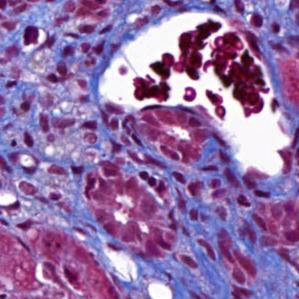inflammation: (16, 21, 52, 53), (134, 166, 173, 194)
